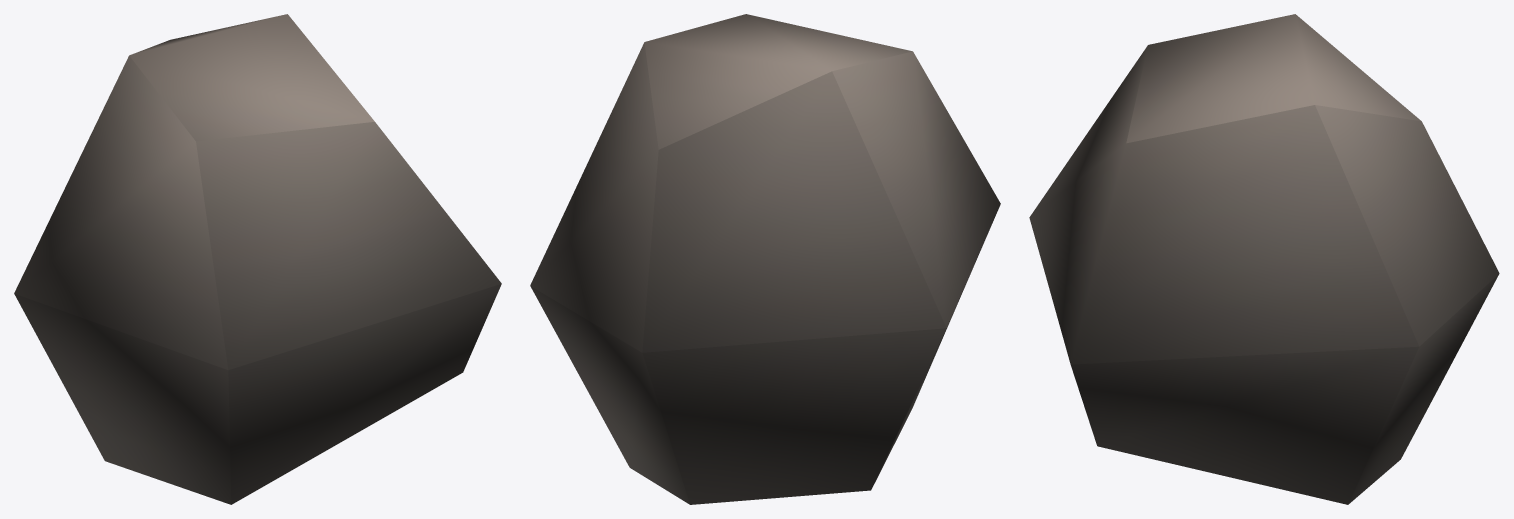
The model's file is Rock_Small_1A.fbx.
The picture shows the model from 3 angles, left to right: view 1: azimuth 30°, elevation 25°; view 2: azimuth 150°, elevation 25°; view 3: azimuth 270°, elevation 25°; orthographic projection. The views are drawn at different scales.
Parts seen in each view (by area): view 1: Rock_Small_1A; view 2: Rock_Small_1A; view 3: Rock_Small_1A.
Part boxes in pixels (box(x1,y1,x2,y2)): Rock_Small_1A: box(14, 14, 501, 504); Rock_Small_1A: box(530, 14, 1000, 504); Rock_Small_1A: box(1029, 14, 1499, 504).
Size of the model in its own units: 52.52 by 53.07 by 55.46.
